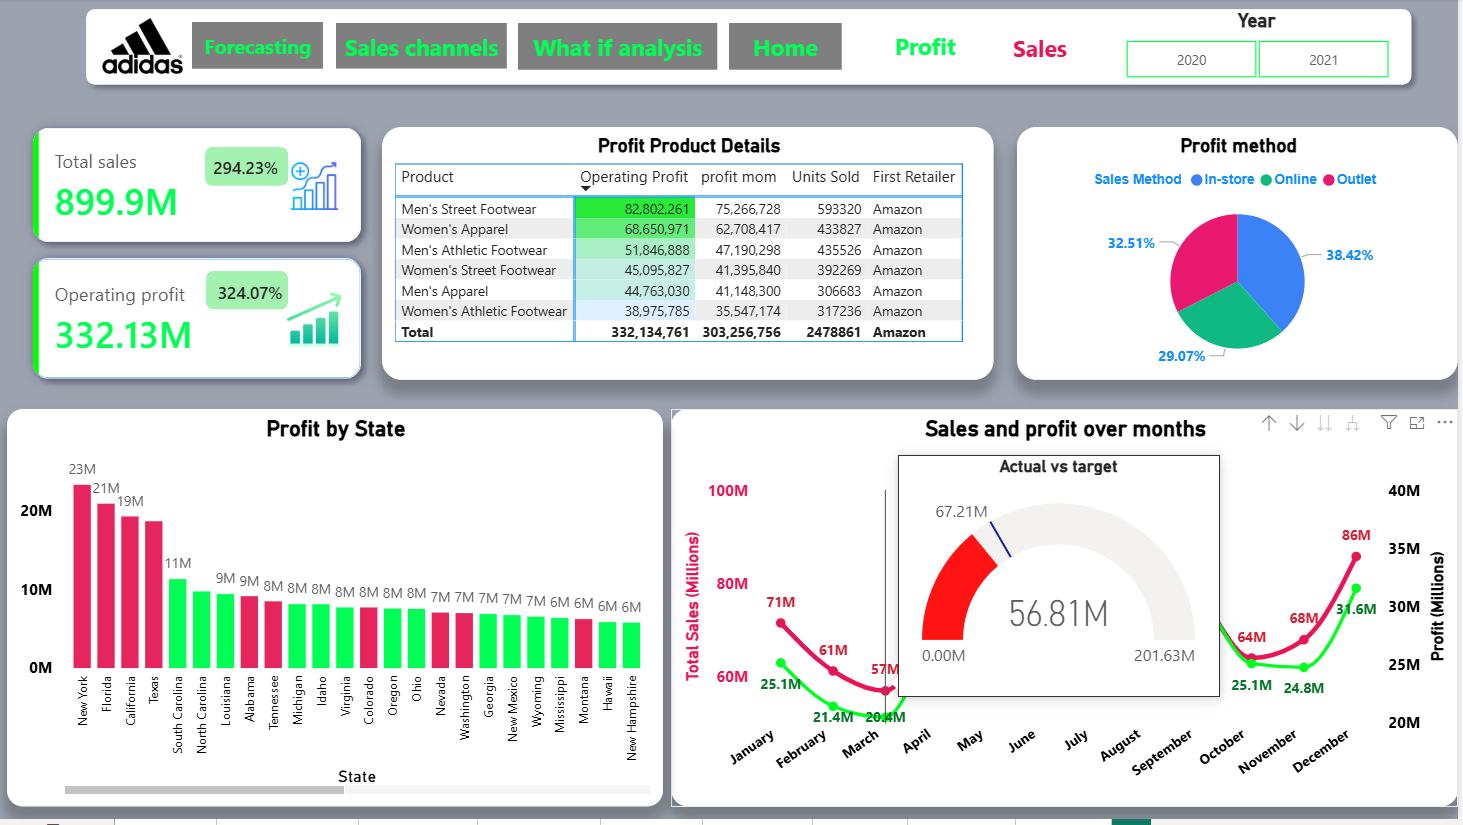

What the dashboard file says about the page in this screenshot:
{"tool":"powerbi","page":{"name":"Sales performance","canvas":[1280,720],"ordinal":1},"visuals":[{"type":"shape","title":"Navigation bar","box":[66.6,0,1181.4,84],"z":0},{"type":"cardVisual","title":"Total sales","fields":{"Data":["Sum(Data.Total Sales)"]},"box":[0,84,346,158.9],"z":1000},{"type":"cardVisual","fields":{"Data":["Sum(Data.Operating Profit)"]},"box":[0,198.1,346,164.3],"z":2000},{"type":"shape","box":[180.2,130.1,73,34.2],"z":3000},{"type":"cardVisual","fields":{"Data":["Data.Dynamic_Growth_Status"]},"box":[154,117.5,124.3,58.2],"z":4000},{"type":"slicer","title":"Year","fields":{"Values":["Date.Date.Variation.Date Hierarchy.Year"]},"box":[963,9.2,280.4,66.9],"z":5000},{"type":"shape","box":[180.8,239.2,72.1,33.8],"z":6000},{"type":"cardVisual","fields":{"Data":["Data.Dynamic_Growth_profit"]},"box":[154.3,226.7,130.5,59],"z":7000},{"type":"lineChart","title":"Sales and profit over months","fields":{"Category":["Date.Date.Variation.Date Hierarchy.Year","Date.Date.Variation.Date Hierarchy.Month"],"Y":["Sum(Data.Total Sales)"],"Y2":["Sum(Data.Operating Profit)"]},"box":[589.2,360,691,349.5],"z":8000},{"type":"pieChart","title":"Profit method","fields":{"Category":["Data.Sales Method"],"Y":["Sum(Data.Operating Profit)"]},"box":[893,112.4,387.2,222.1],"z":11000},{"type":"pivotTable","title":"Profit Product Details","fields":{"Rows":["Data.Product"],"Values":["Sum(Data.Operating Profit)","Data.profit mom","Sum(Data.Units Sold)","Min(Data.Retailer)"]},"box":[335.4,112.5,537.4,221.8],"z":12000},{"type":"columnChart","title":"Profit by State","fields":{"Category":["Data.State"],"Y":["Sum(Data.Operating Profit)"]},"box":[6.1,360,576,349.5],"z":13000},{"type":"actionButton","box":[863.1,22.9,99.9,39.4],"z":14000},{"type":"actionButton","box":[762.3,20.2,100.8,41.2],"z":15000},{"type":"actionButton","title":"Home","box":[640.5,21.1,99,41.2],"z":16000},{"type":"actionButton","box":[454.5,21.1,175,41.2],"z":17000},{"type":"actionButton","box":[295,21.1,150.3,40.3],"z":18000},{"type":"actionButton","box":[168.6,20.2,115.4,41.2],"z":20000},{"type":"image","box":[81.5,16.5,87,48.6],"z":21000}]}

Visuals, with their boxes in screenshot pixels (x1, y1, x2, y2), scaled from the page's 1280x720 canvas onto the 1463x825 screenshot:
"Navigation bar" shape: 76, 0, 1426, 96
"Total sales" cardVisual: 0, 96, 395, 278
cardVisual - Sum(Data.Operating Profit): 0, 227, 395, 415
shape: 206, 149, 289, 188
cardVisual - Data.Dynamic_Growth_Status: 176, 135, 318, 201
"Year" slicer: 1101, 11, 1421, 87
shape: 207, 274, 289, 313
cardVisual - Data.Dynamic_Growth_profit: 176, 260, 326, 327
"Sales and profit over months" lineChart: 673, 412, 1462, 813
"Profit method" pieChart: 1021, 129, 1462, 383
"Profit Product Details" pivotTable: 383, 129, 998, 383
"Profit by State" columnChart: 7, 412, 665, 813
actionButton: 986, 26, 1101, 71
actionButton: 871, 23, 986, 70
"Home" actionButton: 732, 24, 845, 71
actionButton: 519, 24, 719, 71
actionButton: 337, 24, 509, 70
actionButton: 193, 23, 325, 70
image: 93, 19, 193, 75
